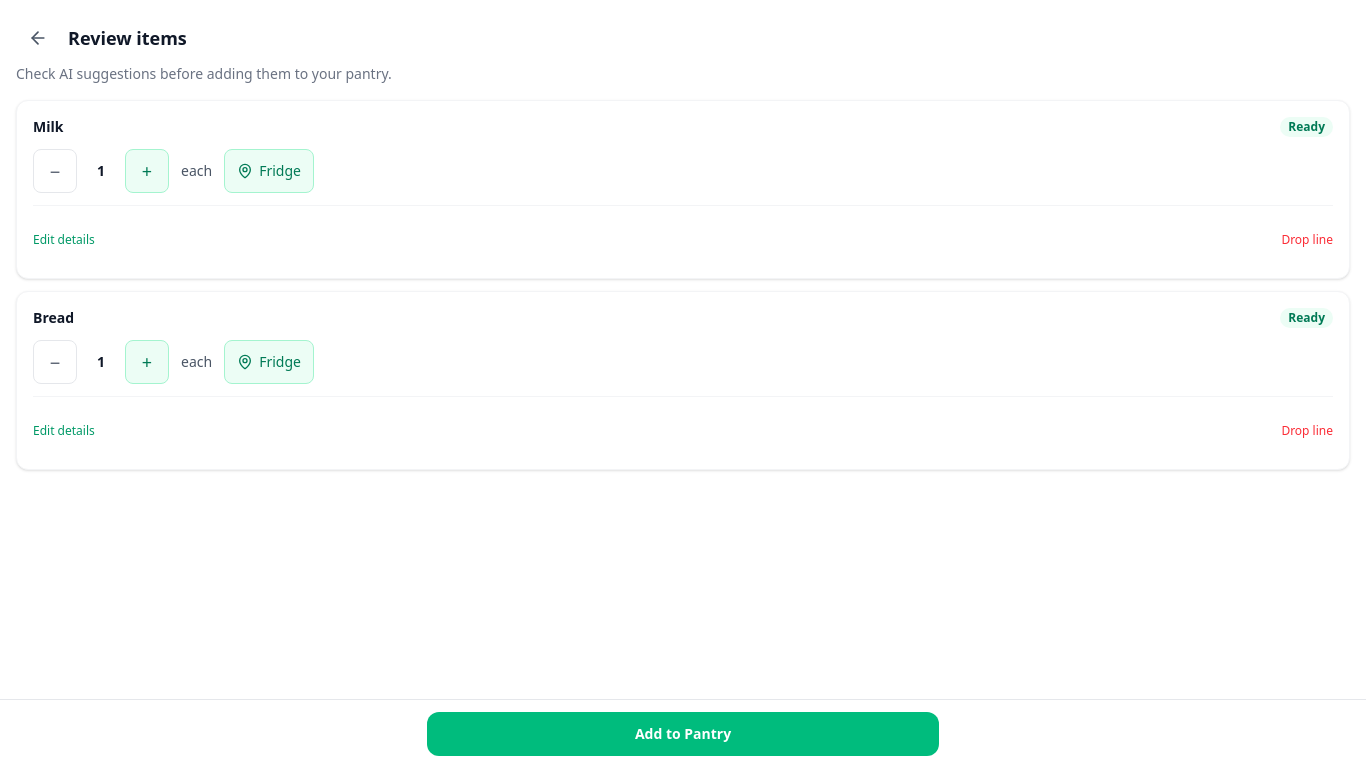
BatchReviewScreen › confirm flow › names the failed row, locks the succeeded row, and hides ConfirmBar
The image size is (1366, 768).
Click the button "Add to Pantry" at (683, 734), box [427,712,939,756]
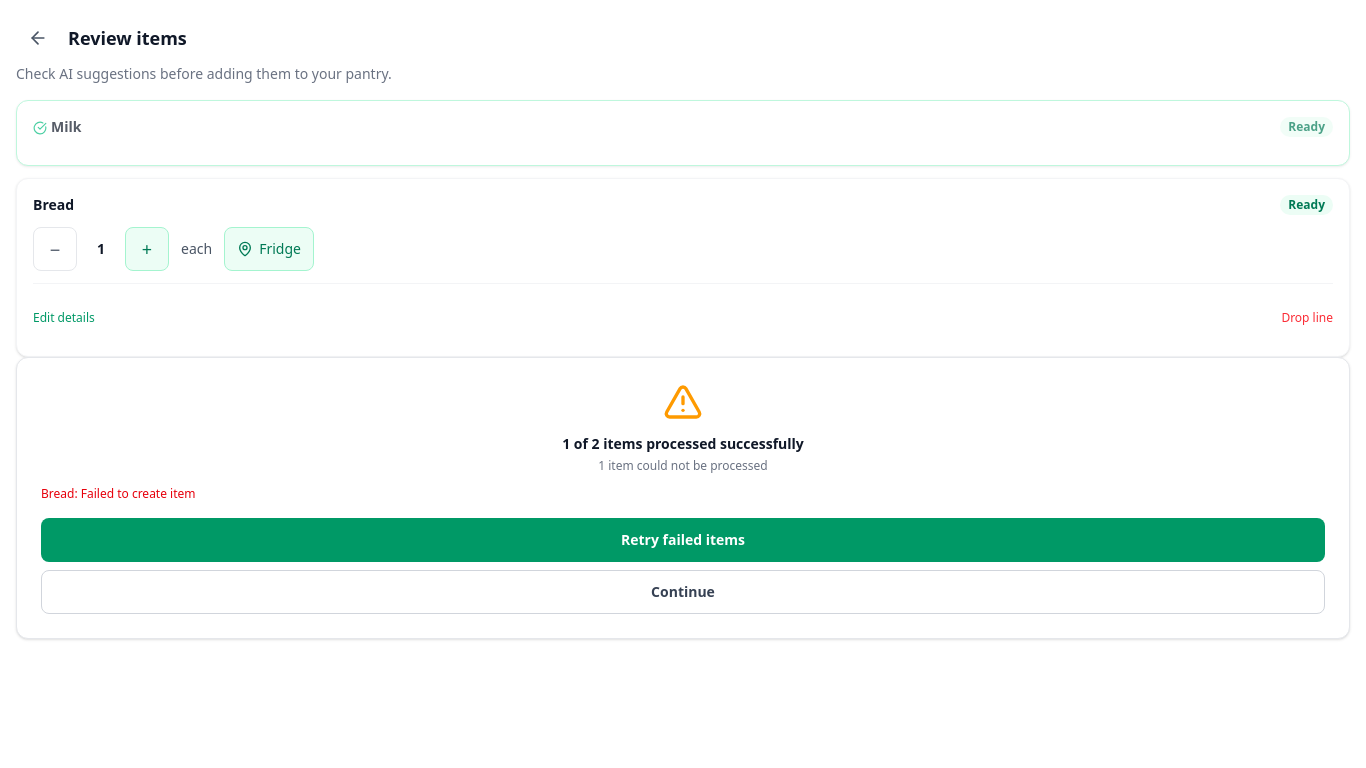
Check: the text "1 of 2 items processed successfully" is shown, box [562,434,804,453]
Check: the list item "Bread: Failed to create item" is shown, box [41,485,196,502]
Check: the button "Retry failed items" is shown, box [41,518,1325,562]
